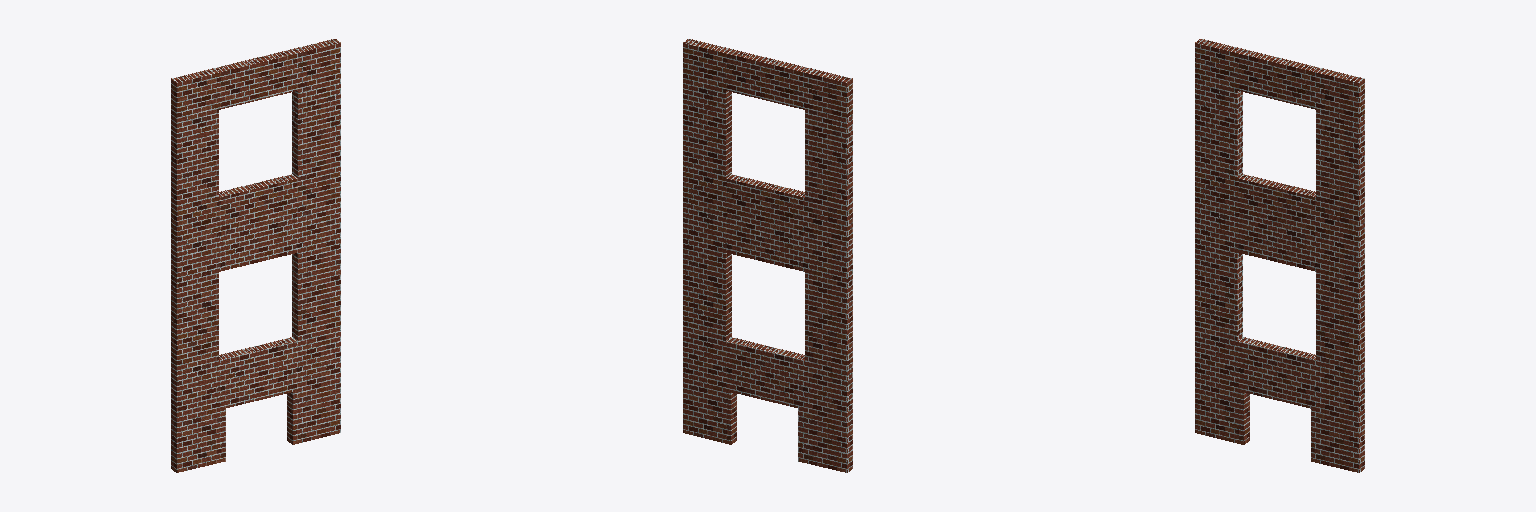
3 renders of one model, left to right at view 1: azimuth 30°, elevation 25°; view 2: azimuth 150°, elevation 25°; view 3: azimuth 330°, elevation 25°, orthographic.
Parts seen in each view (by area): view 1: Box009; view 2: Box009; view 3: Box009.
Boxes of the visible parts, box(x1,y1,x2,y2) form: Box009: box(171, 39, 340, 472); Box009: box(683, 39, 852, 472); Box009: box(1195, 39, 1364, 472).
Size of the model in its own units: 31.85 by 72.19 by 2.
Materials: 1 (1 with a texture image).